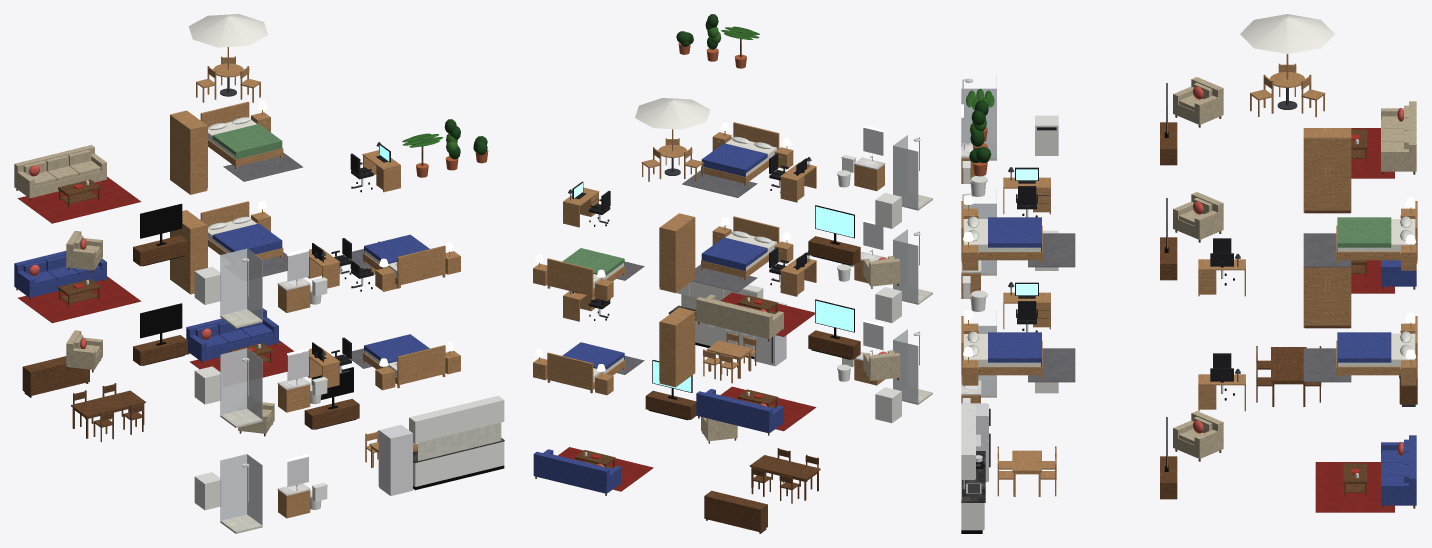
File: i_rajasthan_haveli.gltf
3 renders of one model, left to right at view 1: azimuth 30°, elevation 25°; view 2: azimuth 150°, elevation 25°; view 3: azimuth 270°, elevation 25°, orthographic. The views are drawn at different scales.
Visible parts, largest first — view 1: I_rajasthan_haveli; view 2: I_rajasthan_haveli; view 3: I_rajasthan_haveli.
Boxes of the visible parts, x1=… form: I_rajasthan_haveli: x1=14, y1=14, x2=504, y2=533; I_rajasthan_haveli: x1=533, y1=14, x2=932, y2=533; I_rajasthan_haveli: x1=961, y1=14, x2=1417, y2=533.
Bounding box in the file's own units: 11.32 × 12.25 × 11.52.
32 materials, 13 textured.
